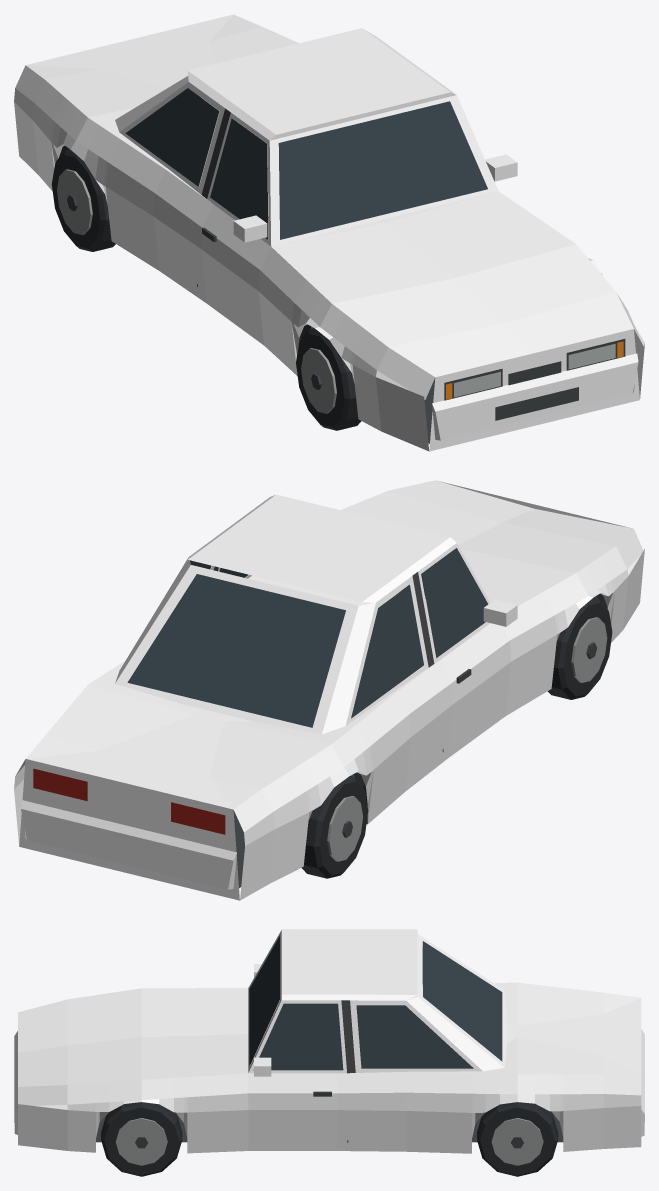
Rendered from hayase_komorebi.glb.
3 renders of one model, top to bottom at view 1: azimuth 30°, elevation 25°; view 2: azimuth 150°, elevation 25°; view 3: azimuth 270°, elevation 25°, orthographic. The views are drawn at different scales.
Visible parts, largest first — view 1: hayase_komorebi; view 2: hayase_komorebi; view 3: hayase_komorebi.
Part boxes in pixels (left/top/right/bottom): hayase_komorebi: left=14, top=14, right=644, bottom=451; hayase_komorebi: left=14, top=480, right=644, bottom=900; hayase_komorebi: left=14, top=929, right=644, bottom=1176.
Bounding box in the file's own units: 1.72 × 1.27 × 4.38.
8 materials, 1 textured.
